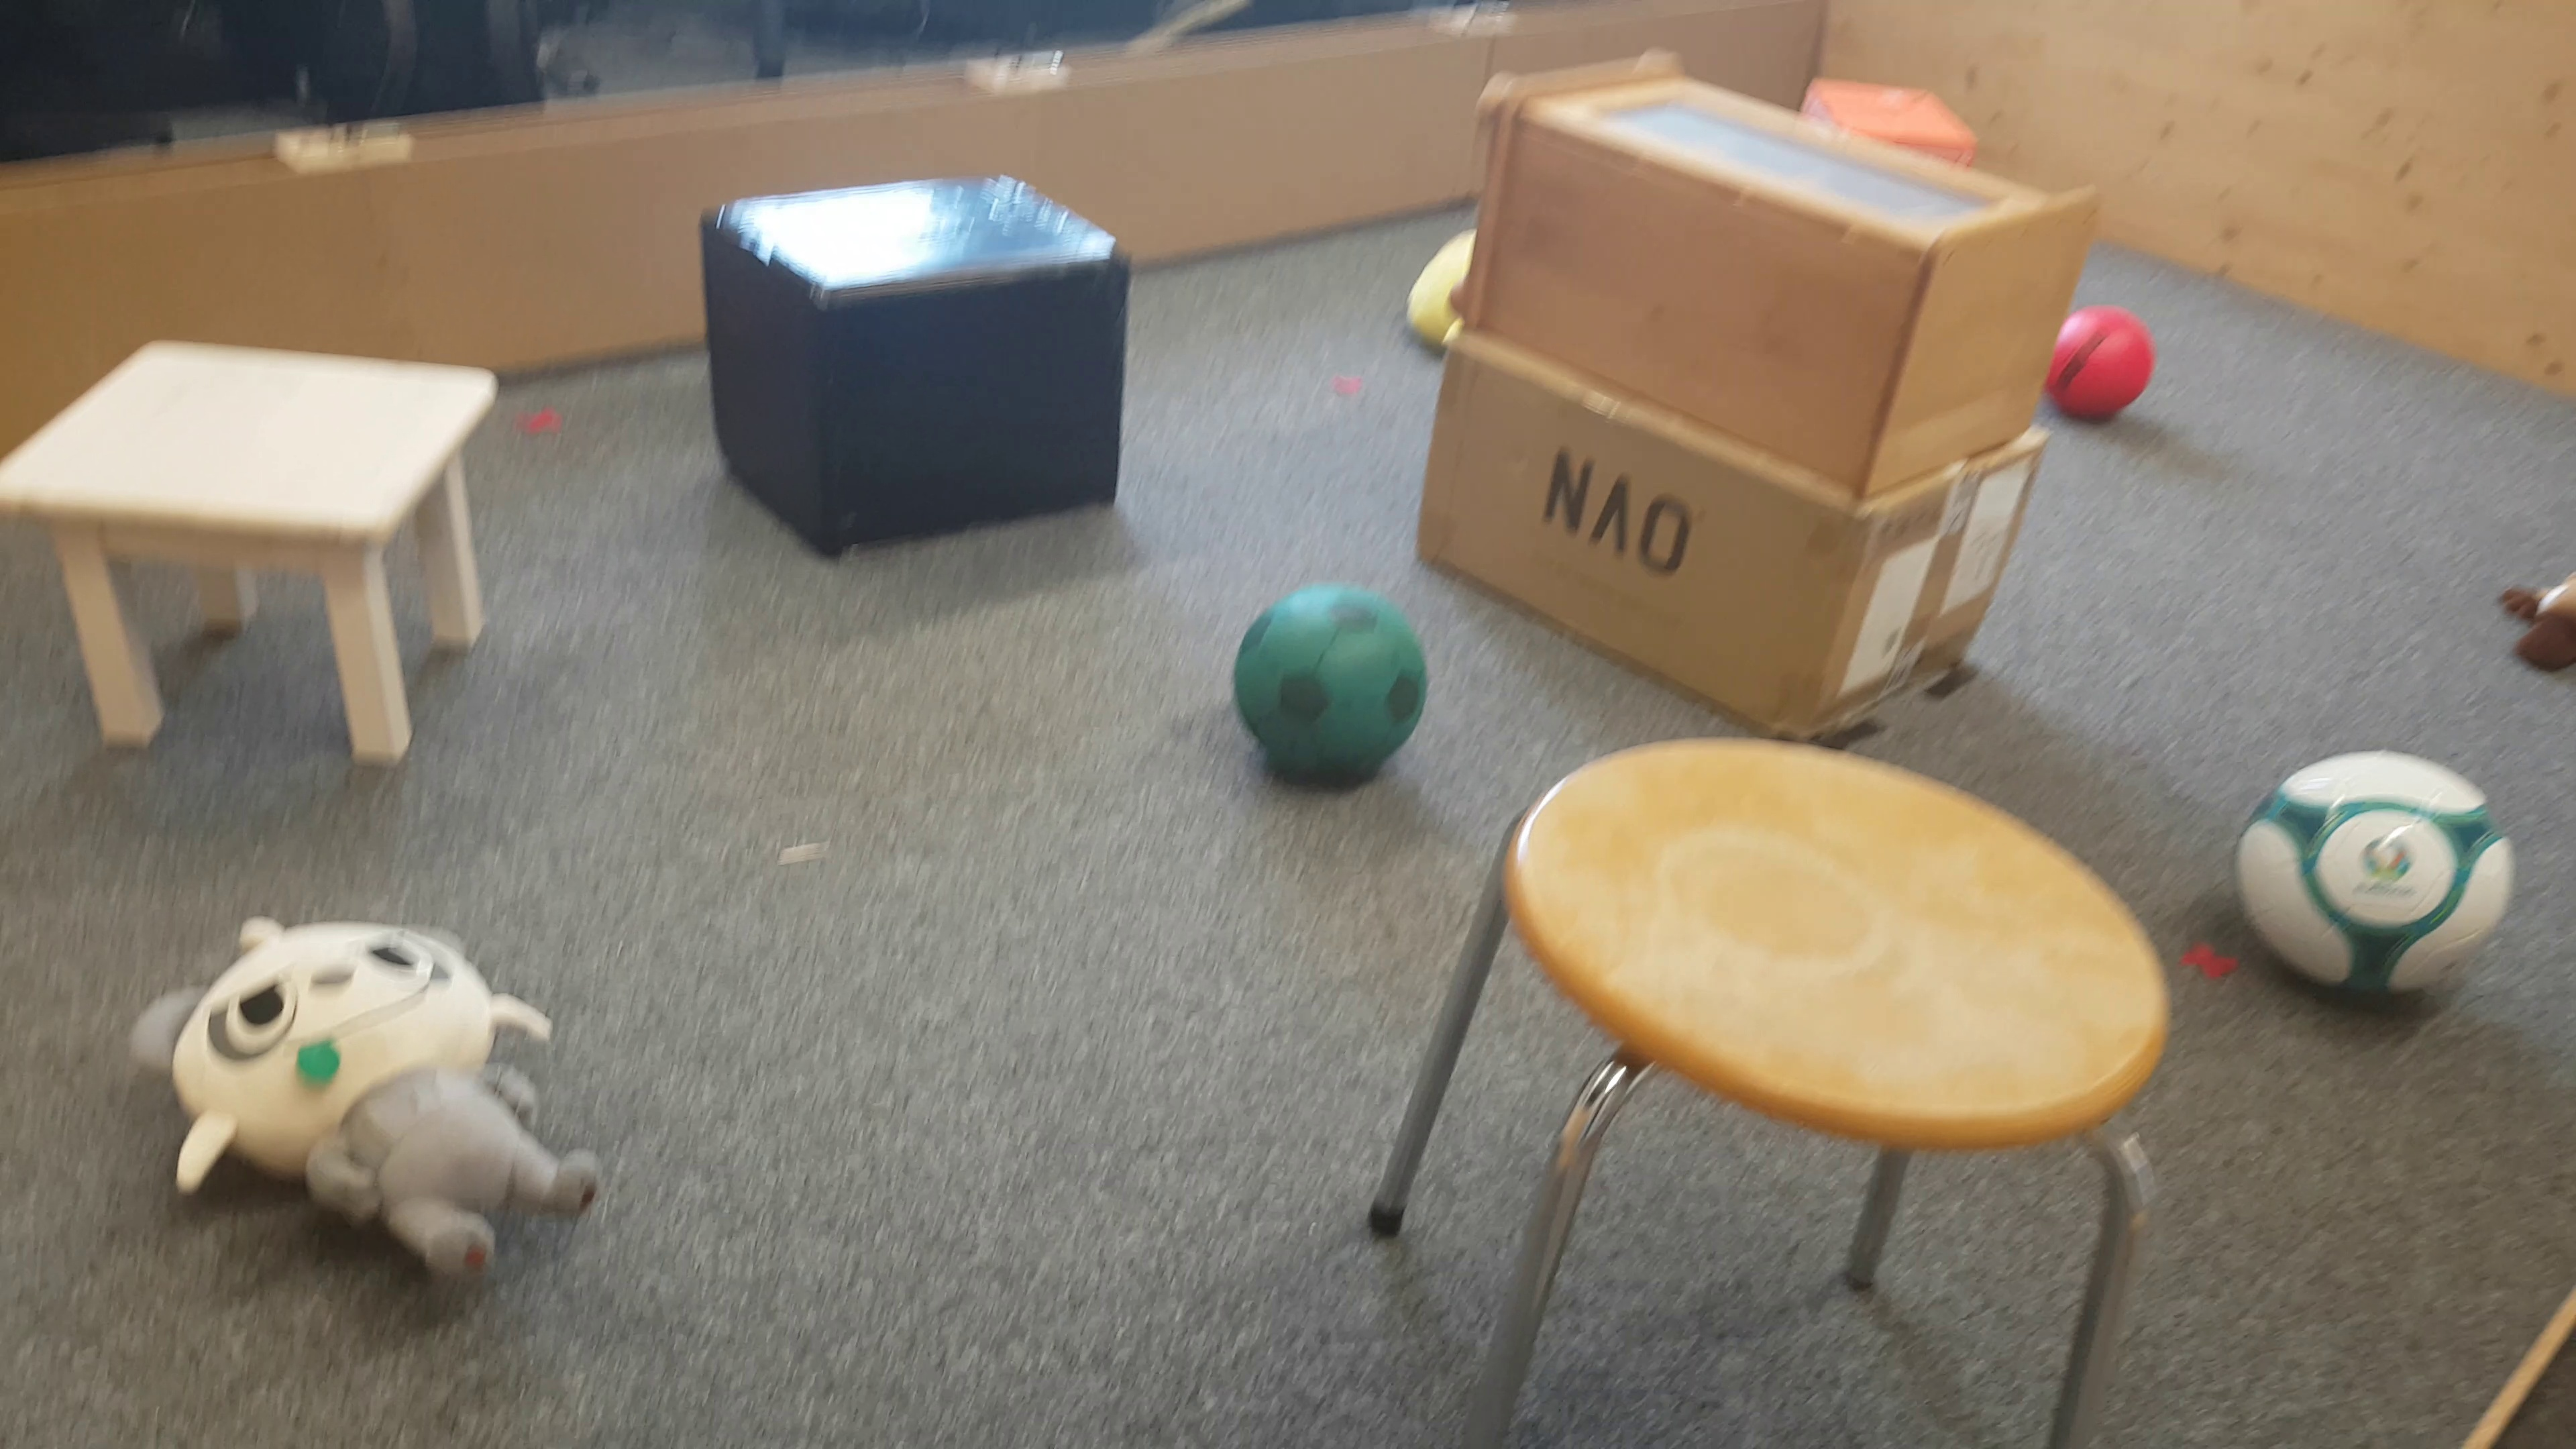grasp: (136, 913, 603, 1307), (1408, 219, 1467, 352), (2509, 561, 2576, 672)
kick: (2235, 755, 2512, 1021), (1237, 586, 1430, 791), (2065, 304, 2155, 425)
push: (702, 182, 1132, 556), (1805, 71, 1966, 147)
